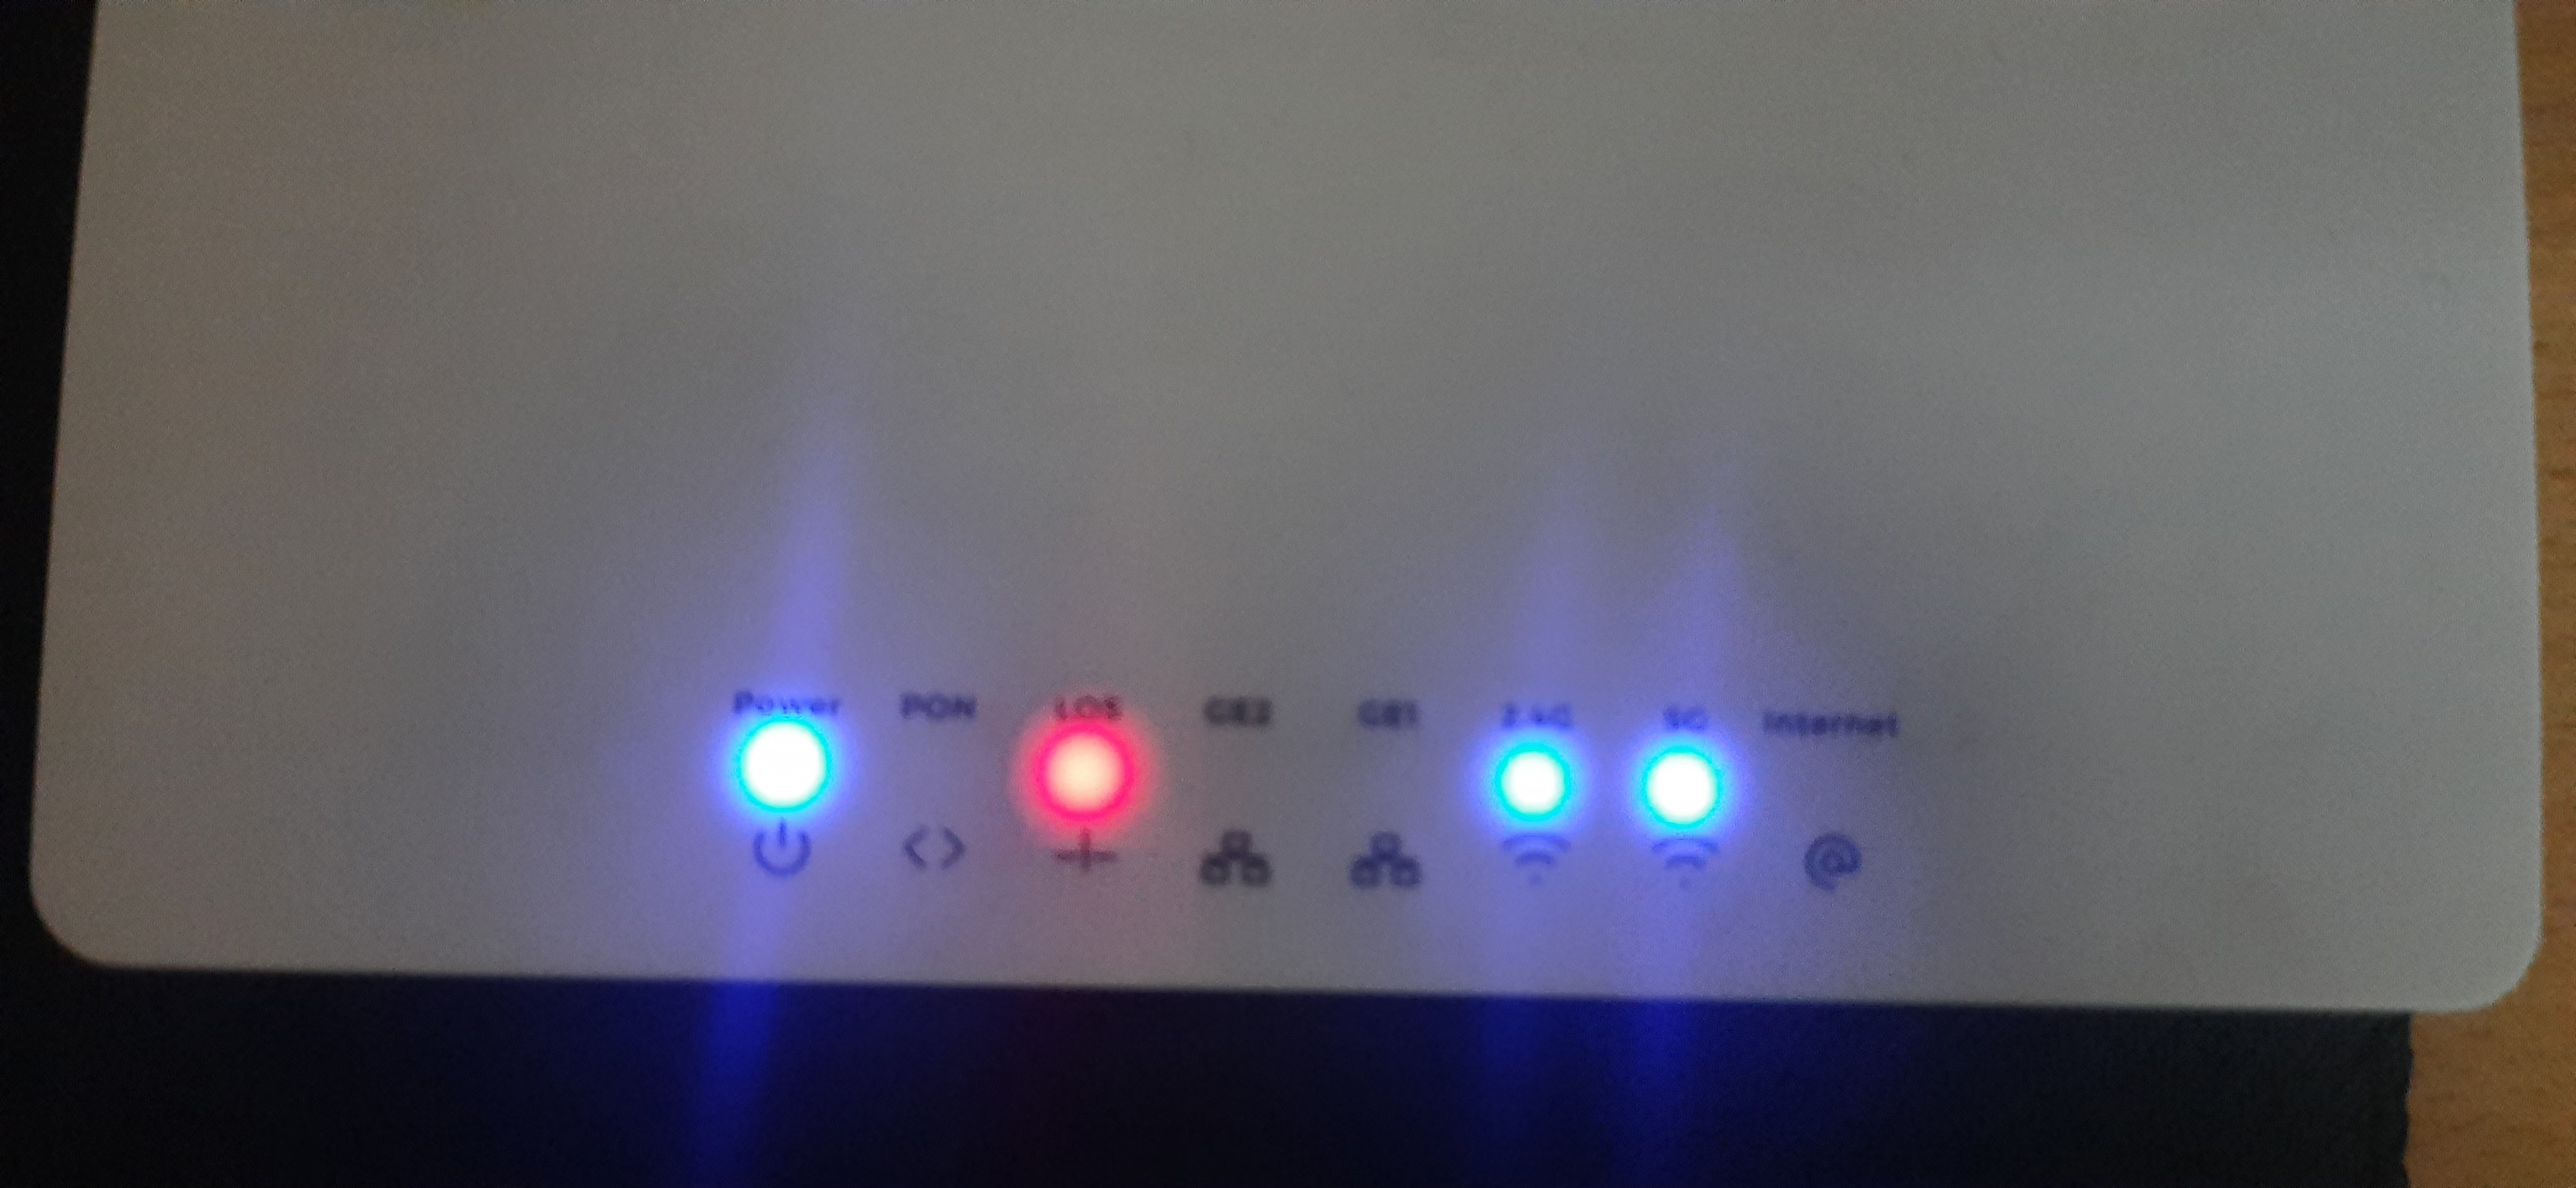LOSConnectionIssue: (986, 672, 1173, 925)
